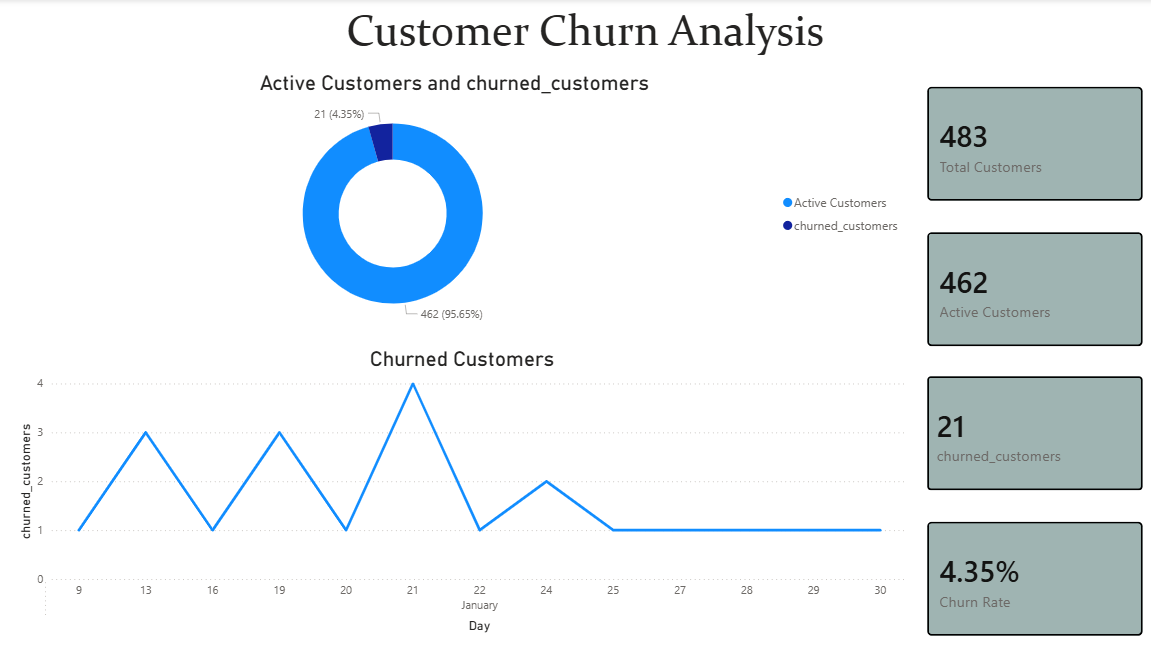

Layout of this report page (visuals, bound fields, positions):
{"tool":"powerbi","page":{"name":"Page 3","canvas":[1280,720],"ordinal":2},"visuals":[{"type":"textbox","box":[16,0,1264,80],"z":0},{"type":"cardVisual","fields":{"Data":["Churned_Customers.Active Customers"]},"box":[1008,240,272,160],"z":1000},{"type":"cardVisual","fields":{"Data":["Churned_Customers.churned_customers"]},"box":[1008,400,272,160],"z":2000},{"type":"cardVisual","fields":{"Data":["Churned_Customers.Total Customers"]},"box":[1008,80,272,160],"z":3000},{"type":"cardVisual","fields":{"Data":["Churned_Customers.Churn Rate"]},"box":[1008,560,272,160],"z":4000},{"type":"donutChart","fields":{"Y":["Churned_Customers.Active Customers","Churned_Customers.churned_customers"]},"box":[0,80,1008,288],"z":5000},{"type":"lineChart","title":"Churned Customers","fields":{"Category":["Churned_Customers.last_order_date.Variation.Date Hierarchy.Month","Churned_Customers.last_order_date.Variation.Date Hierarchy.Day"],"Y":["Churned_Customers.churned_customers"]},"box":[16,384,992,320],"z":6000},{"type":"actionButton","box":[0,0,100,40],"z":7000}]}

Visuals, with their boxes in screenshot pixels (x1, y1, x2, y2), scaled from the page's 1280x720 canvas onto the 1151x646 screenshot:
textbox: locate(14, 0, 1150, 72)
cardVisual - Churned_Customers.Active Customers: locate(906, 215, 1150, 359)
cardVisual - Churned_Customers.churned_customers: locate(906, 359, 1150, 502)
cardVisual - Churned_Customers.Total Customers: locate(906, 72, 1150, 215)
cardVisual - Churned_Customers.Churn Rate: locate(906, 502, 1150, 645)
donutChart - Churned_Customers.Active Customers x Churned_Customers.churned_customers: locate(0, 72, 906, 330)
"Churned Customers" lineChart: locate(14, 345, 906, 632)
actionButton: locate(0, 0, 90, 36)
